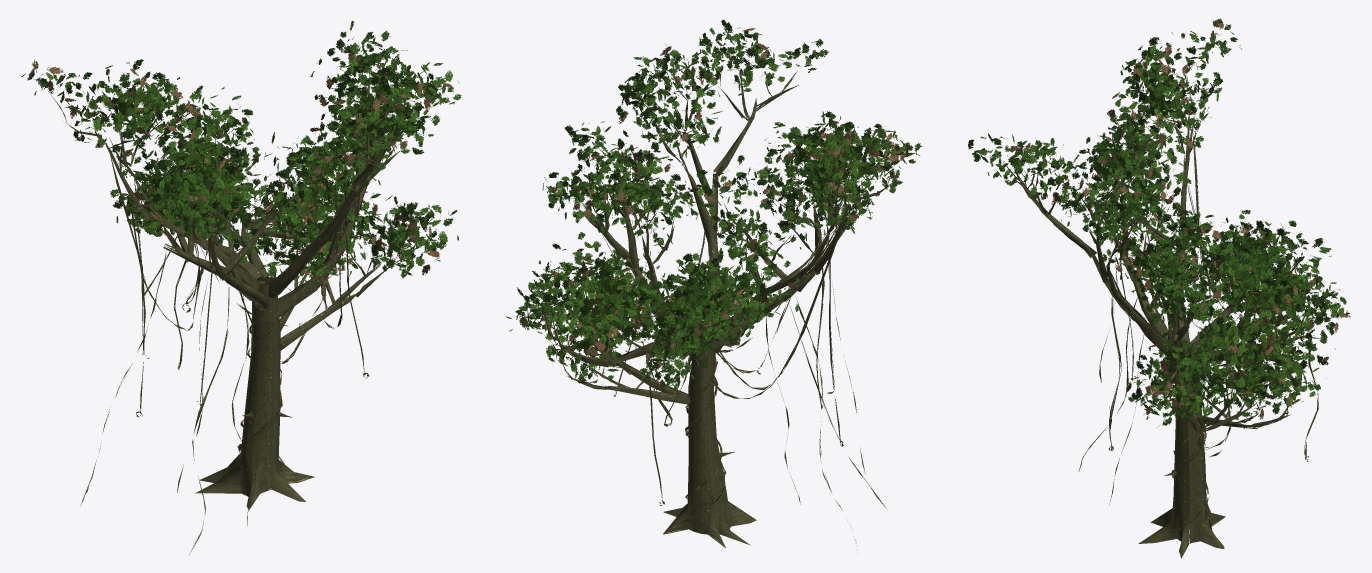
The model's file is arbre_v2.glb.
The picture shows the model from 3 angles, left to right: view 1: azimuth 30°, elevation 25°; view 2: azimuth 150°, elevation 25°; view 3: azimuth 270°, elevation 25°; orthographic projection. The views are drawn at different scales.
Visible parts, largest first — view 1: ArbreGeant_Feuillage, ArbreGeant_Bois; view 2: ArbreGeant_Feuillage, ArbreGeant_Bois; view 3: ArbreGeant_Feuillage, ArbreGeant_Bois.
Boxes of the visible parts, x1,y1,x2,y2 form: ArbreGeant_Feuillage: (21,21,461,293); ArbreGeant_Bois: (47,63,417,553); ArbreGeant_Feuillage: (505,20,922,396); ArbreGeant_Bois: (541,62,894,547); ArbreGeant_Feuillage: (968,18,1350,427); ArbreGeant_Bois: (1004,53,1319,558).
Bounding box in the file's own units: 39.53 × 43.07 × 35.53.
3 materials, 3 textured.
